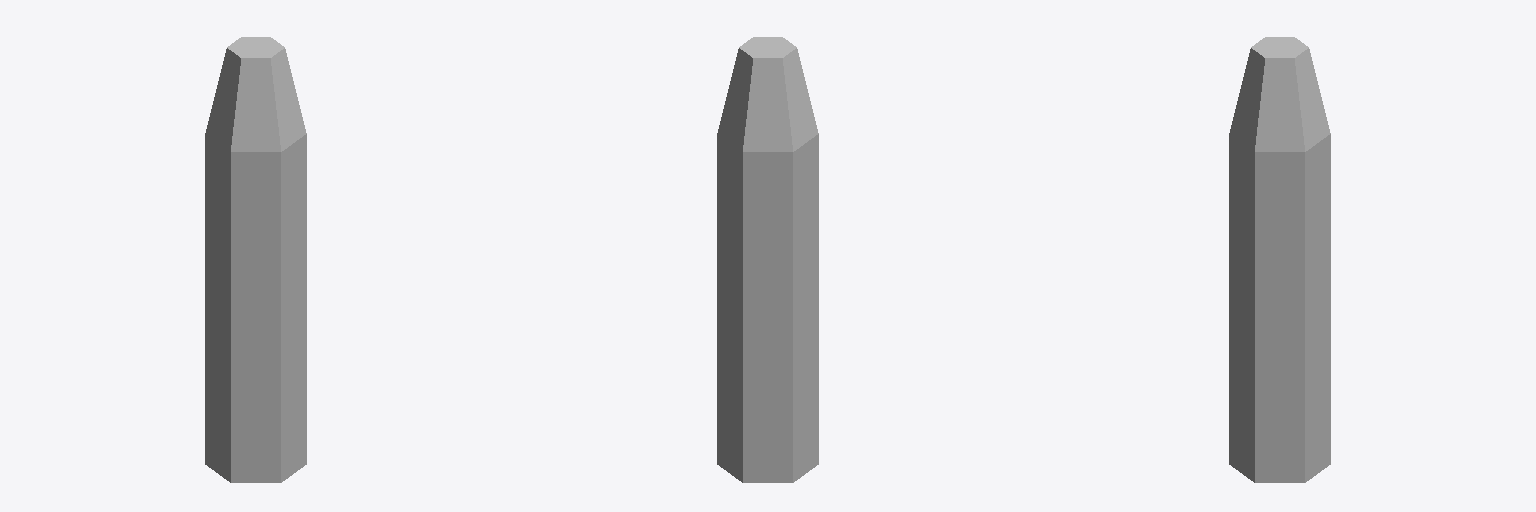
Rendered from Revolver_Bullet.obj.
3 renders of one model, left to right at view 1: azimuth 30°, elevation 25°; view 2: azimuth 150°, elevation 25°; view 3: azimuth 270°, elevation 25°, orthographic.
Visible parts, largest first — view 1: Revolver_Bullet_Cylinder.004; view 2: Revolver_Bullet_Cylinder.004; view 3: Revolver_Bullet_Cylinder.004.
Part boxes in pixels (left/top/right/bottom): Revolver_Bullet_Cylinder.004: left=205, top=37, right=306, bottom=482; Revolver_Bullet_Cylinder.004: left=717, top=37, right=818, bottom=482; Revolver_Bullet_Cylinder.004: left=1229, top=37, right=1330, bottom=482.
Size of the model in its own units: 0.0079 by 0.0411 by 0.0091.